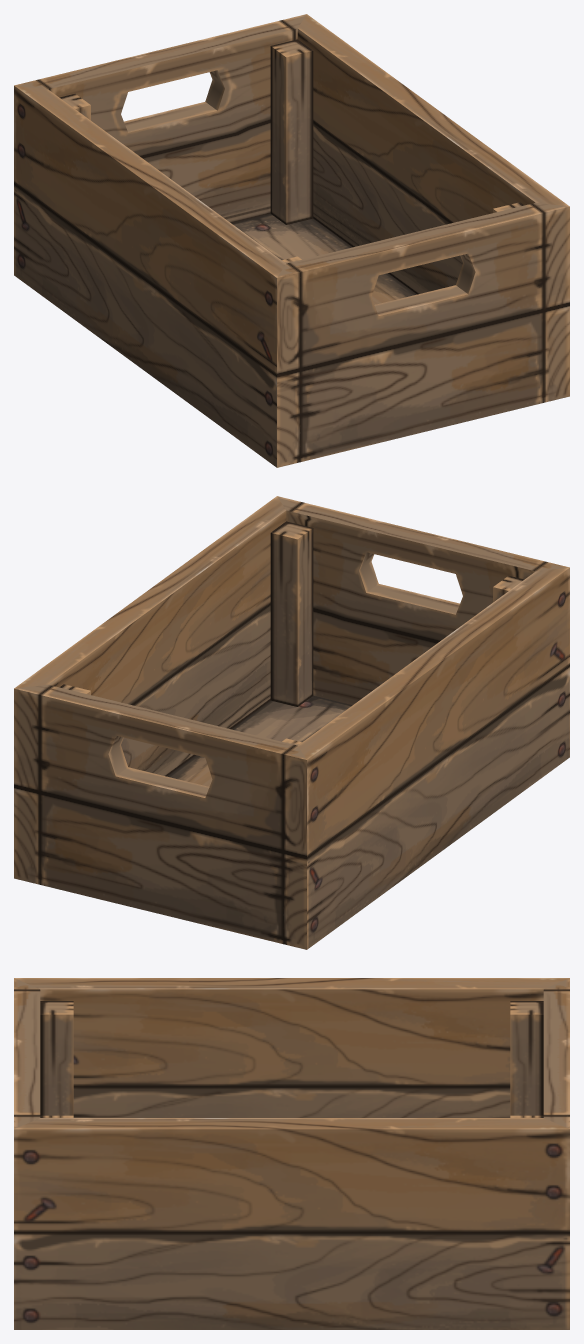
File: ITEM_woodbox.fbx
3 views of the same model, one above another, from view 1: azimuth 30°, elevation 25°; view 2: azimuth 150°, elevation 25°; view 3: azimuth 270°, elevation 25° (orthographic). The views are drawn at different scales.
Parts seen in each view (by area): view 1: ITEM_woodbox; view 2: ITEM_woodbox; view 3: ITEM_woodbox.
Boxes of the visible parts, x1,y1,x2,y2 form: ITEM_woodbox: [14, 14, 569, 467]; ITEM_woodbox: [14, 496, 569, 949]; ITEM_woodbox: [14, 978, 569, 1329].
Size of the model in its own units: 27 by 16.73 by 42.
